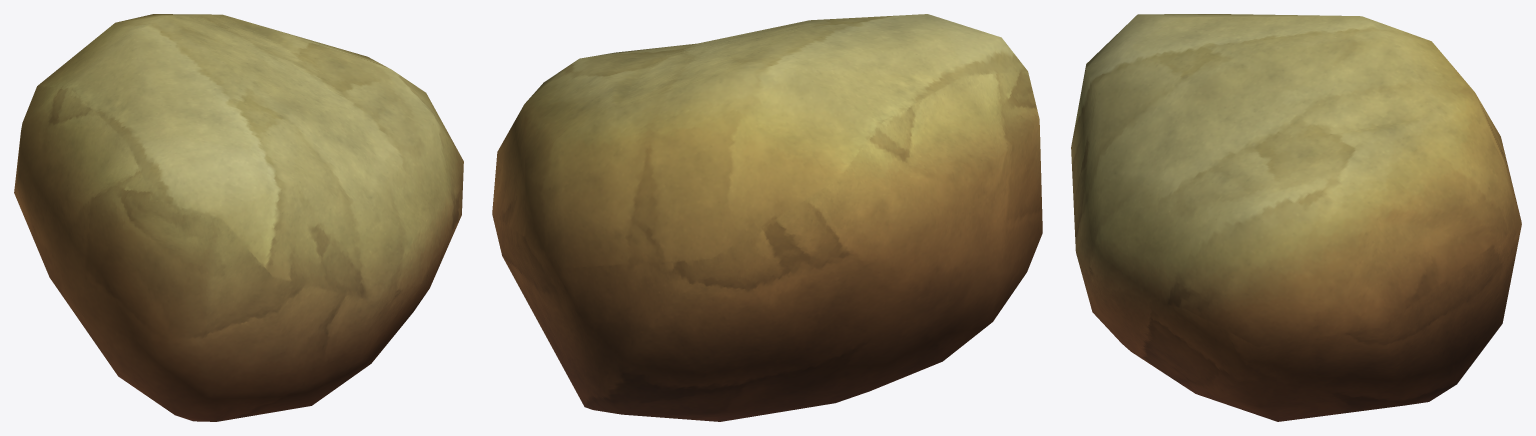
File: Rock.glb
3 renders of one model, left to right at view 1: azimuth 30°, elevation 25°; view 2: azimuth 150°, elevation 25°; view 3: azimuth 270°, elevation 25°, orthographic. The views are drawn at different scales.
Parts seen in each view (by area): view 1: Cube.009; view 2: Cube.009; view 3: Cube.009.
Part boxes in pixels (x1,y1,x2,y2): Cube.009: (14,14,463,421); Cube.009: (492,14,1042,421); Cube.009: (1071,14,1521,421).
Bounding box in the file's own units: 1.41 × 1.1 × 1.38.
Materials: 1 (1 with a texture image).
